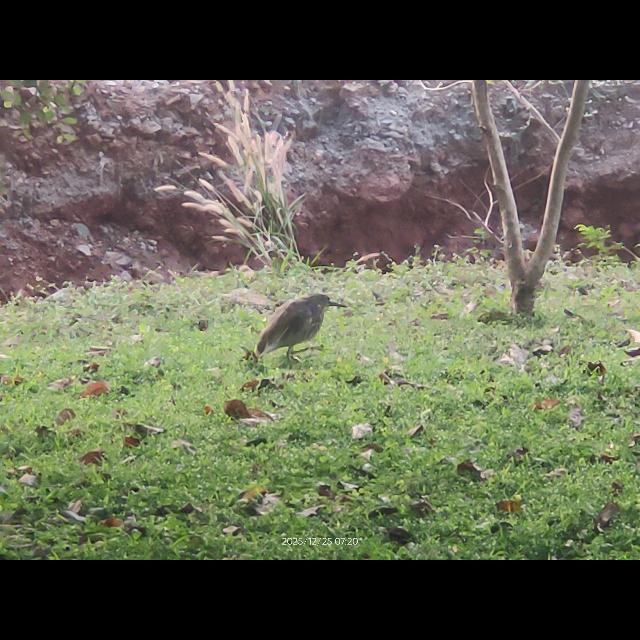heron: (246, 291, 352, 365)
